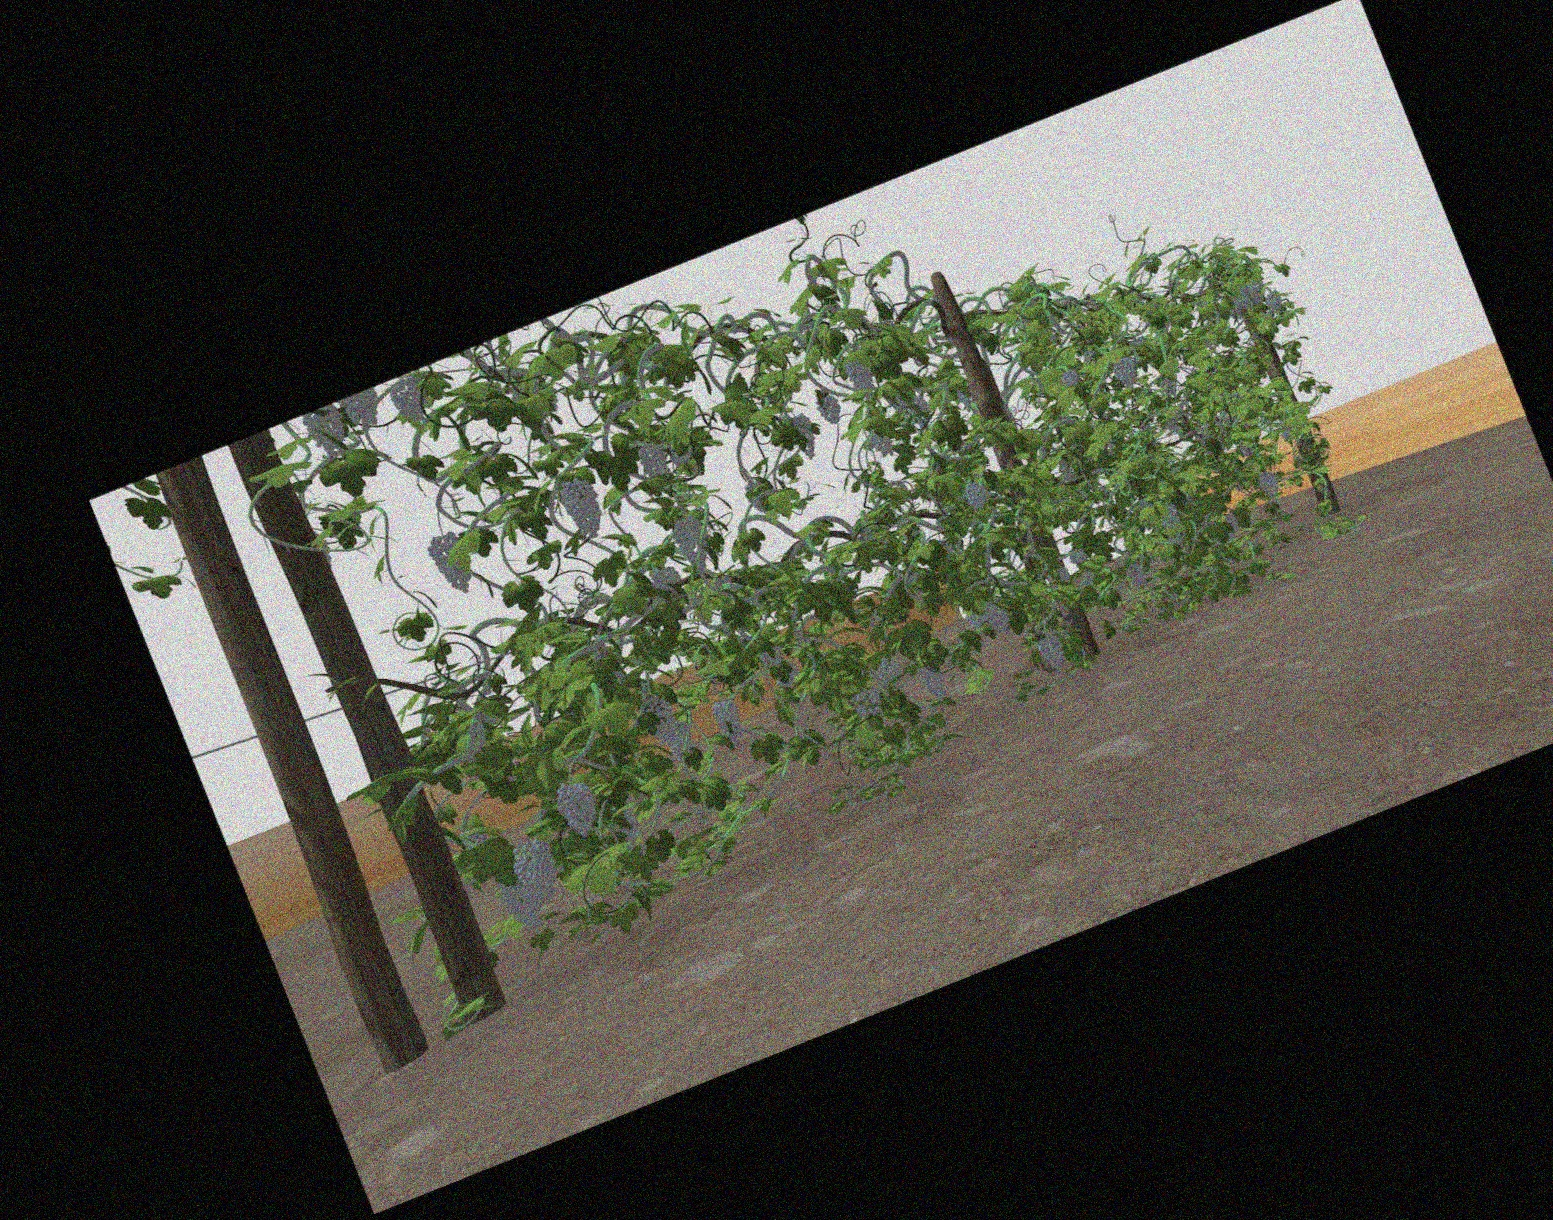grape: (563, 476, 601, 539), (431, 534, 470, 594), (517, 842, 558, 896), (560, 778, 598, 837), (503, 877, 540, 930), (309, 413, 345, 452), (645, 697, 674, 746), (395, 381, 427, 420), (672, 515, 705, 555), (792, 413, 818, 457), (847, 355, 874, 398), (347, 397, 382, 427), (716, 699, 741, 741), (642, 442, 667, 481), (921, 662, 945, 701), (671, 727, 696, 764), (1041, 635, 1066, 669), (986, 604, 1011, 636), (818, 392, 841, 425), (966, 476, 988, 509), (877, 655, 900, 688), (855, 689, 882, 715), (1116, 355, 1136, 389), (1128, 560, 1146, 589), (1261, 470, 1279, 497), (1160, 503, 1179, 527), (1232, 286, 1250, 310), (1060, 367, 1079, 388), (1266, 291, 1283, 313), (1068, 546, 1087, 565), (966, 611, 982, 626)
